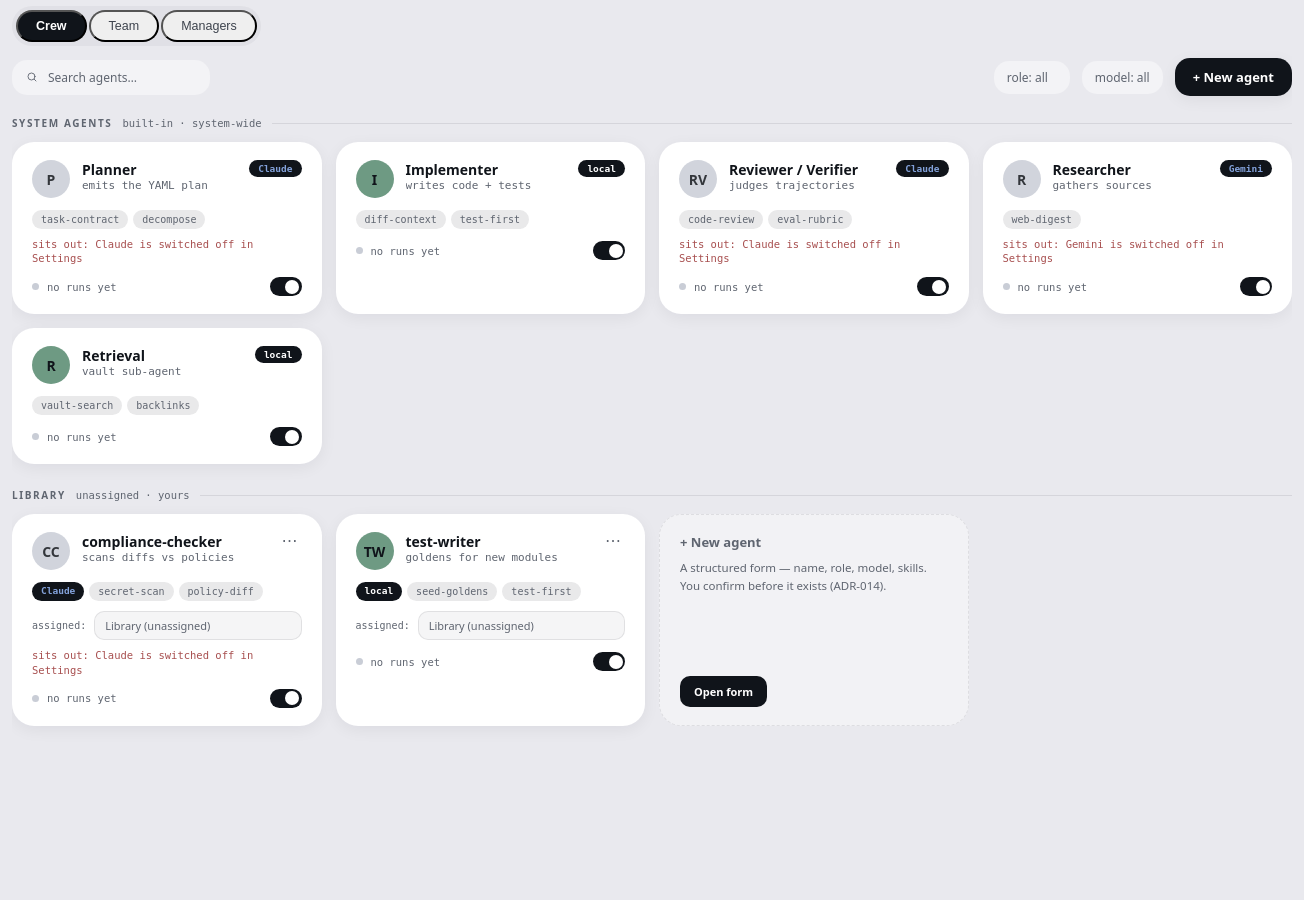
Test: Agents companion card — on and resting, not a toggle to keep flipping › states the real state ("On · resting · next check in Xm") instead of offering a switch
Click the tab "Managers": {"x": 209, "y": 26} [161,10,257,42]
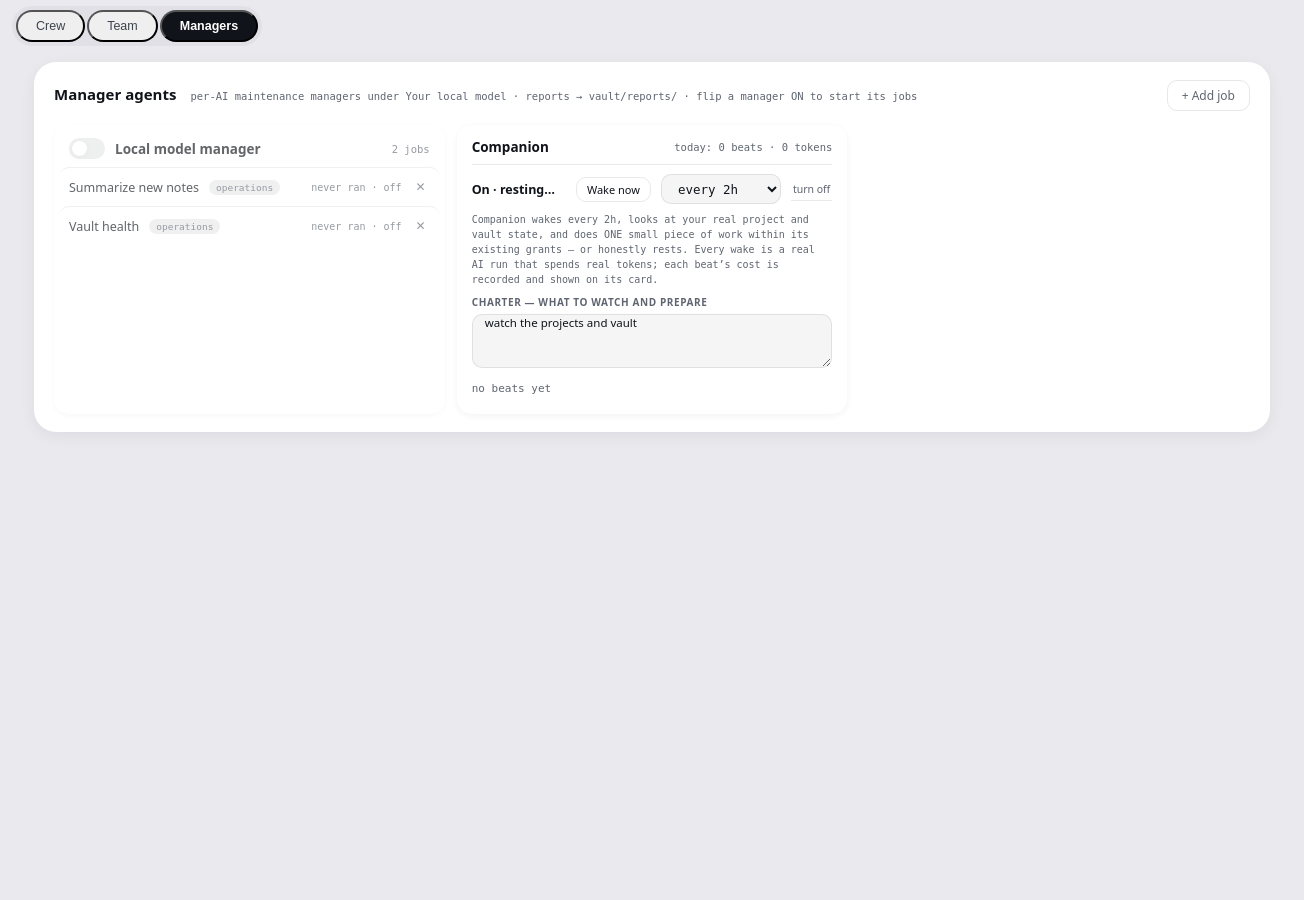
Expected: the text "On · resting · next check in 2h" is shown, [472,180,556,198]
Expected: the button with aria-label "Turn off the heartbeat" is shown, [791,178,832,200]
Expected: the text box showing "watch the projects and vault" is shown, [472,314,832,368]
